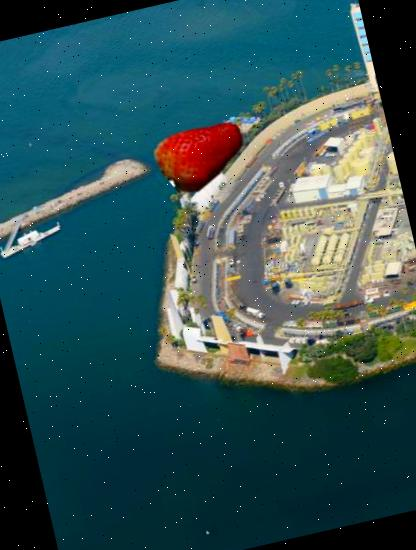Strawberry: (146, 96, 254, 204)
